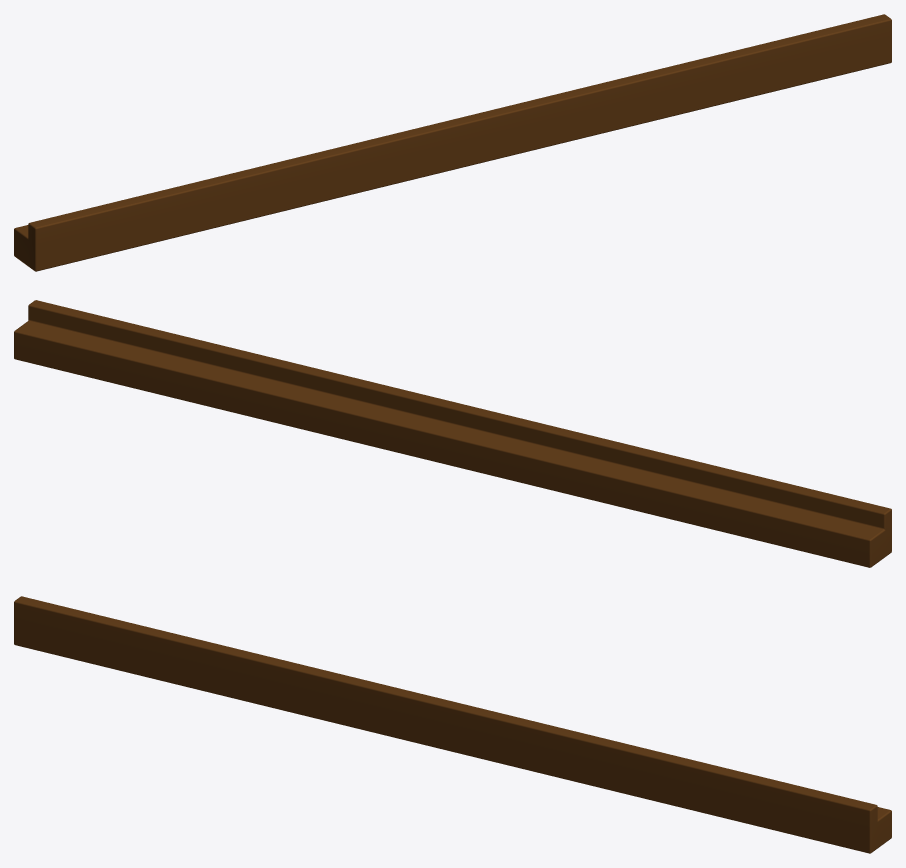
The model's file is FM_H_SH_02_Bush_Holder_001.fbx.
3 views of the same model, one above another, from view 1: azimuth 30°, elevation 25°; view 2: azimuth 150°, elevation 25°; view 3: azimuth 330°, elevation 25° (orthographic).
Parts seen in each view (by area): view 1: FM_H_Small_H_02_Bush_Holder_001; view 2: FM_H_Small_H_02_Bush_Holder_001; view 3: FM_H_Small_H_02_Bush_Holder_001.
Boxes of the visible parts, <box> form: FM_H_Small_H_02_Bush_Holder_001: <box>14,14,891,271</box>; FM_H_Small_H_02_Bush_Holder_001: <box>14,300,891,567</box>; FM_H_Small_H_02_Bush_Holder_001: <box>14,596,891,853</box>.
Size of the model in its own units: 7.25 by 0.3573 by 0.3226.
